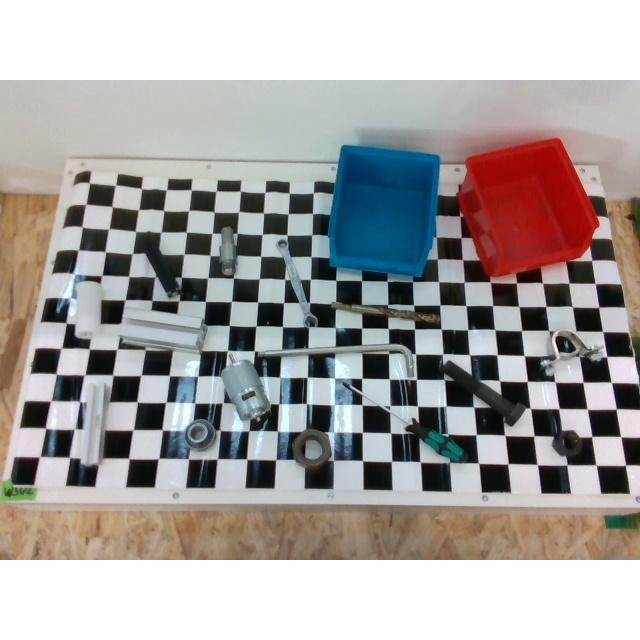AllenKey: (256, 344, 416, 380)
Axis2: (219, 226, 237, 278)
Bearing2: (185, 418, 215, 449)
Drill: (329, 300, 438, 324)
F20_20_B: (138, 235, 180, 298)
F20_20_G: (78, 382, 110, 466)
Housing: (542, 328, 606, 376)
M20: (552, 430, 582, 456)
M20_100: (442, 357, 526, 425)
M30: (292, 428, 332, 472)
Motor2: (222, 360, 270, 420)
S40_40_G: (118, 308, 205, 352)
Screwdriver: (341, 382, 464, 462)
Spacer: (78, 282, 102, 338)
Wrench: (277, 238, 317, 326)
container_box_blue: (328, 144, 439, 276)
container_box_red: (458, 138, 598, 276)
